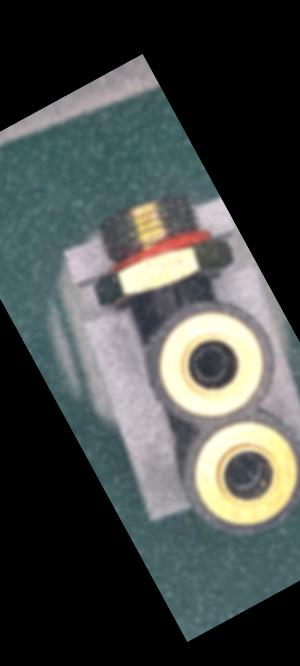craze: (166, 281, 190, 311)
off-centered: (213, 441, 278, 502)
